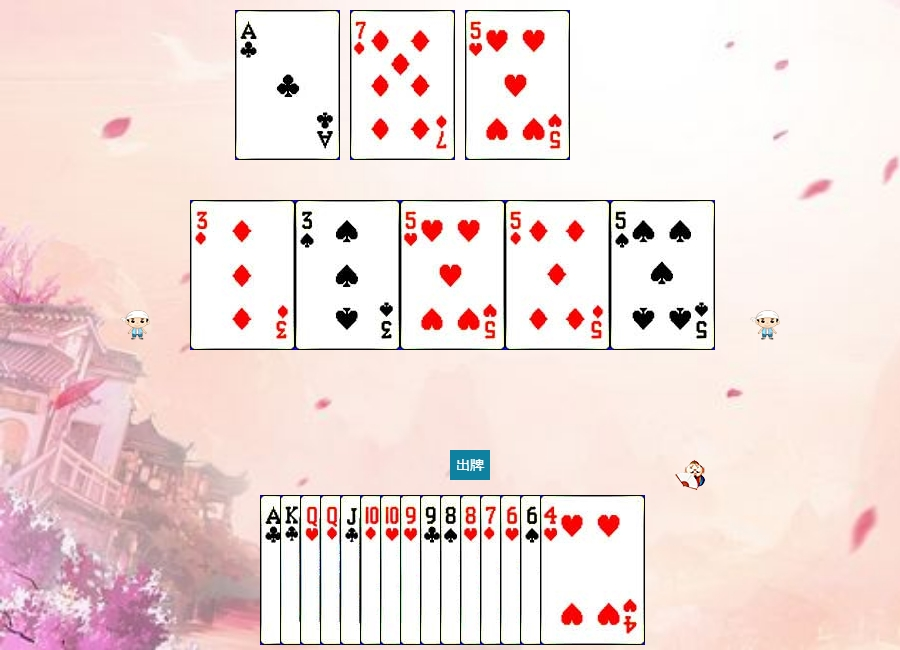10~1: (360, 495, 465, 645)
10~3: (380, 495, 485, 645)
11~2: (340, 495, 445, 645)
12~1: (320, 495, 425, 645)
12~3: (300, 495, 405, 645)
13~2: (280, 495, 385, 645)
14~2: (235, 10, 340, 160), (260, 495, 365, 645)
3~1: (190, 200, 295, 350)
3~4: (295, 200, 400, 350)
4~3: (540, 495, 645, 645)
5~1: (505, 200, 610, 350)
5~3: (465, 10, 570, 160), (400, 200, 505, 350)
5~4: (610, 200, 715, 350)
6~3: (500, 495, 605, 645)
6~4: (520, 495, 625, 645)
7~1: (350, 10, 455, 160), (480, 495, 585, 645)
8~3: (460, 495, 565, 645)
8~4: (440, 495, 545, 645)
9~2: (420, 495, 525, 645)
9~3: (400, 495, 505, 645)
